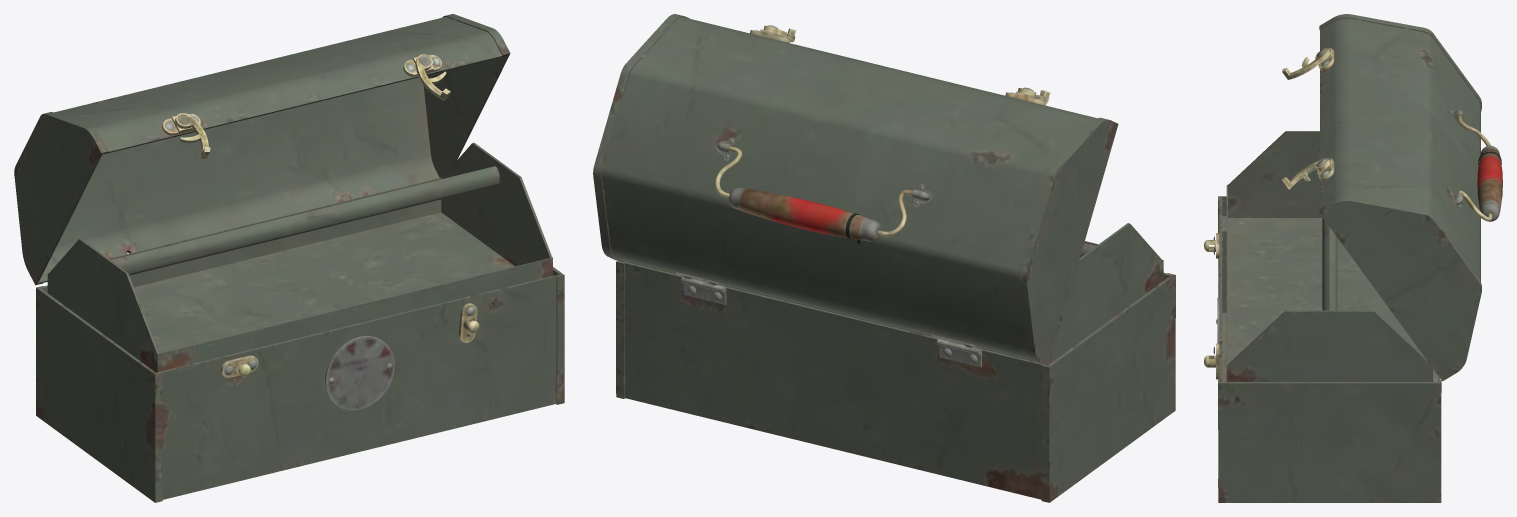
Rendered from metal_toolbox.glb.
The picture shows the model from 3 angles, left to right: view 1: azimuth 30°, elevation 25°; view 2: azimuth 150°, elevation 25°; view 3: azimuth 270°, elevation 25°; orthographic projection. The views are drawn at different scales.
Visible parts, largest first — view 1: metal_toolbox_lid, metal_toolbox, metal_toolbox_tray, metal_toolbox_handle_latch_r, metal_toolbox_handle_latch_l; view 2: metal_toolbox_lid, metal_toolbox, metal_toolbox_tray, metal_toolbox_handle; view 3: metal_toolbox_lid, metal_toolbox_tray, metal_toolbox, metal_toolbox_handle, metal_toolbox_handle_latch_l, metal_toolbox_handle_latch_r.
Boxes of the visible parts, <box> form: metal_toolbox_lid: <box>14,14,510,285</box>; metal_toolbox: <box>36,267,564,502</box>; metal_toolbox_tray: <box>47,142,552,372</box>; metal_toolbox_handle_latch_r: <box>415,54,450,100</box>; metal_toolbox_handle_latch_l: <box>175,113,210,158</box>; metal_toolbox_lid: <box>593,14,1118,365</box>; metal_toolbox: <box>616,260,1175,502</box>; metal_toolbox_tray: <box>628,223,1163,363</box>; metal_toolbox_handle: <box>715,146,912,244</box>; metal_toolbox_lid: <box>1317,14,1481,381</box>; metal_toolbox_tray: <box>1226,131,1432,381</box>; metal_toolbox: <box>1204,196,1441,502</box>; metal_toolbox_handle: <box>1457,114,1502,221</box>; metal_toolbox_handle_latch_l: <box>1282,48,1330,79</box>; metal_toolbox_handle_latch_r: <box>1282,158,1330,189</box>.
Size of the model in its own units: 0.4 by 0.3047 by 0.2705.
1 material, 1 textured.
